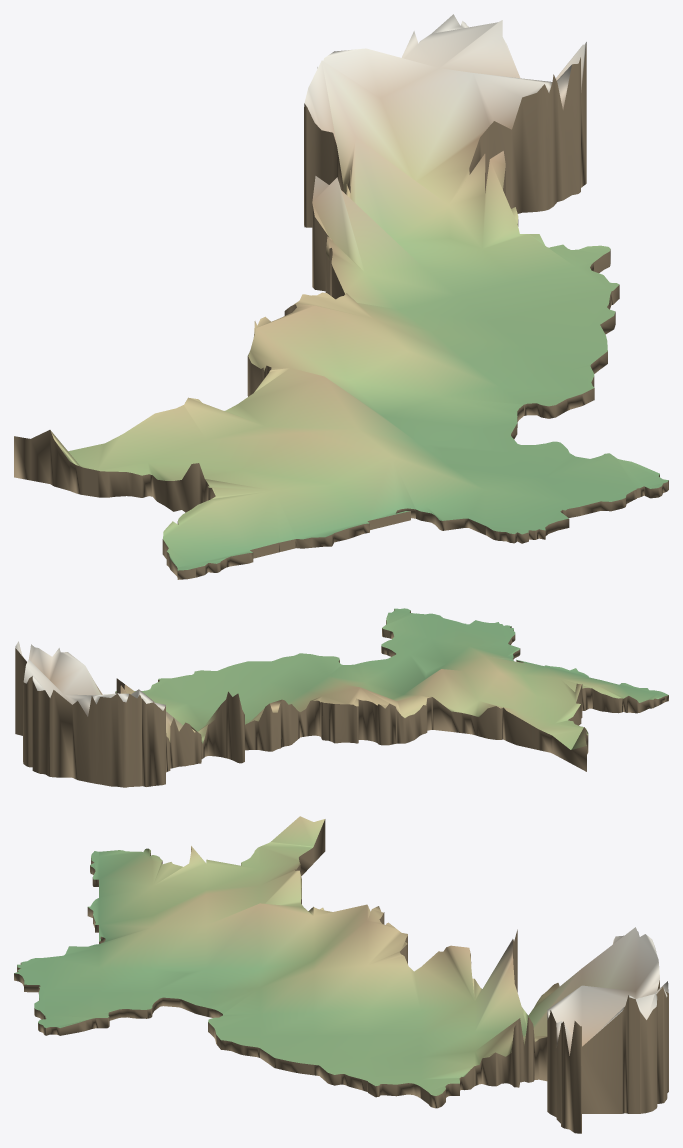
File: PAK.glb
The picture shows the model from 3 angles, top to bottom: view 1: azimuth 30°, elevation 25°; view 2: azimuth 150°, elevation 25°; view 3: azimuth 270°, elevation 25°; orthographic projection. The views are drawn at different scales.
Parts seen in each view (by area): view 1: PAK; view 2: PAK; view 3: PAK.
Boxes of the visible parts, x1,y1,x2,y2 form: PAK: [14, 14, 668, 579]; PAK: [15, 608, 668, 787]; PAK: [14, 816, 668, 1133].
Bounding box in the file's own units: 1.5 × 0.2955 × 1.47.
